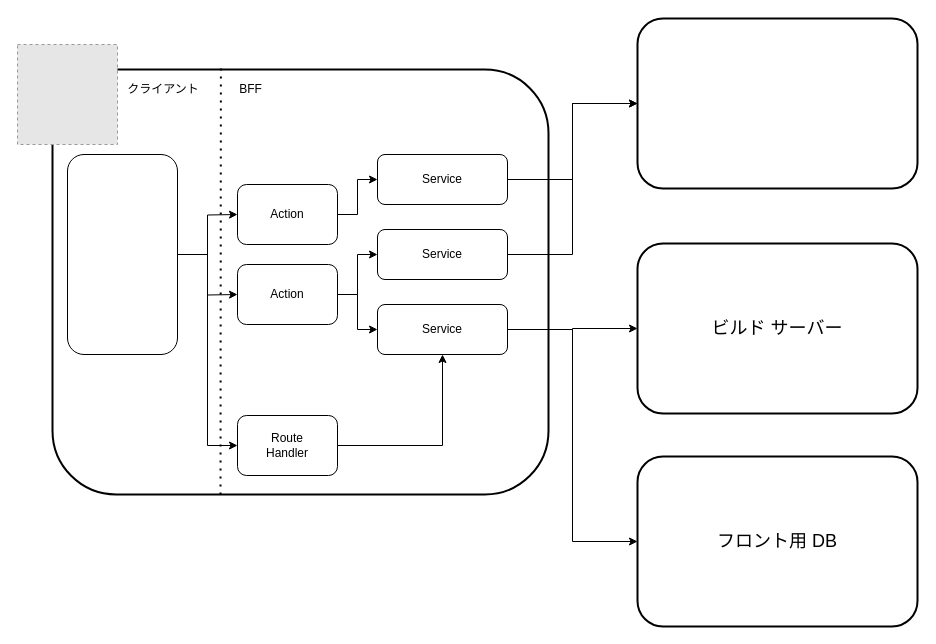
Some shapes in this 936 by 644 pixel diagram are drawn without their labels. Grey dashed boxes stand in for pictures. Each missing label, with the centre of its shape:
"AI サーバー" belongs at pixel 777 103.
"UI コンポーネント" belongs at pixel 122 254.
